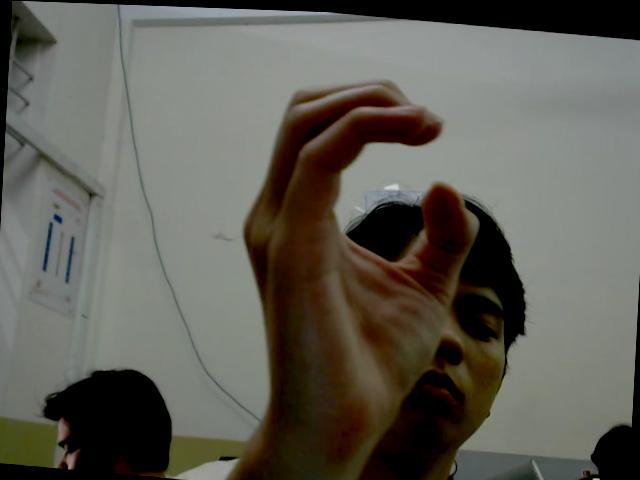C: (227, 62, 488, 443)
